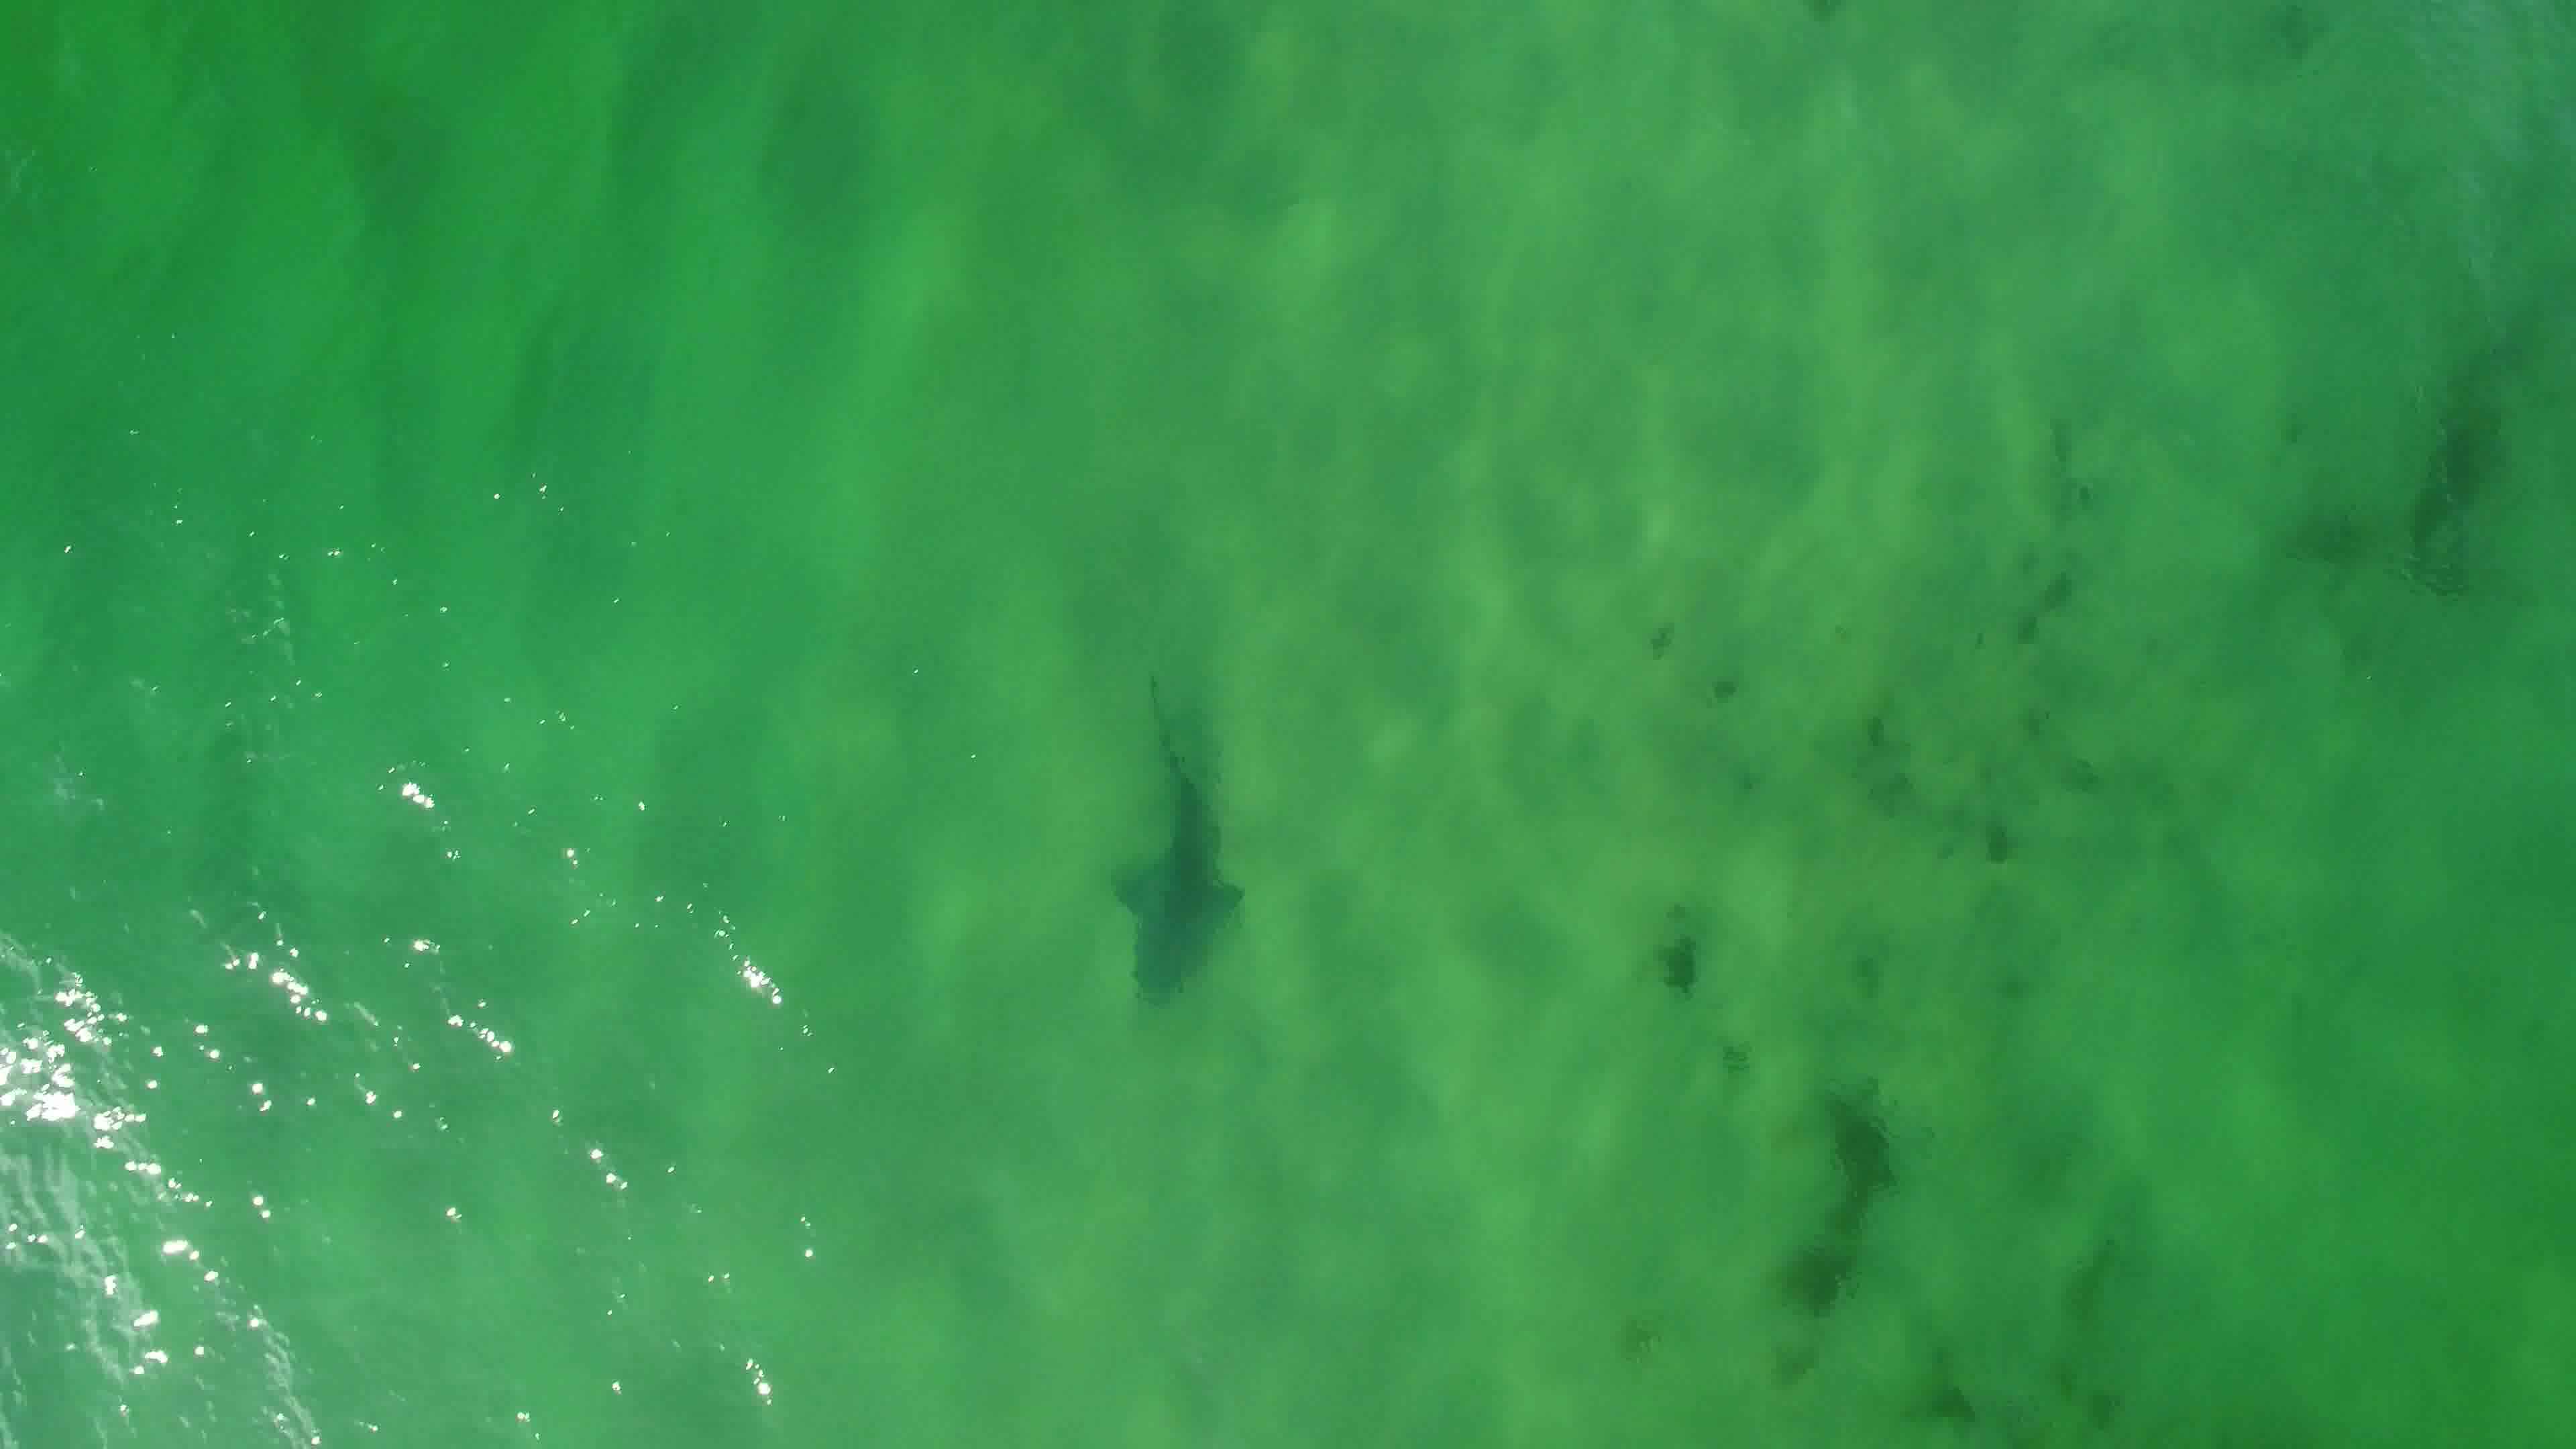shark: (1079, 667, 1254, 1012)
